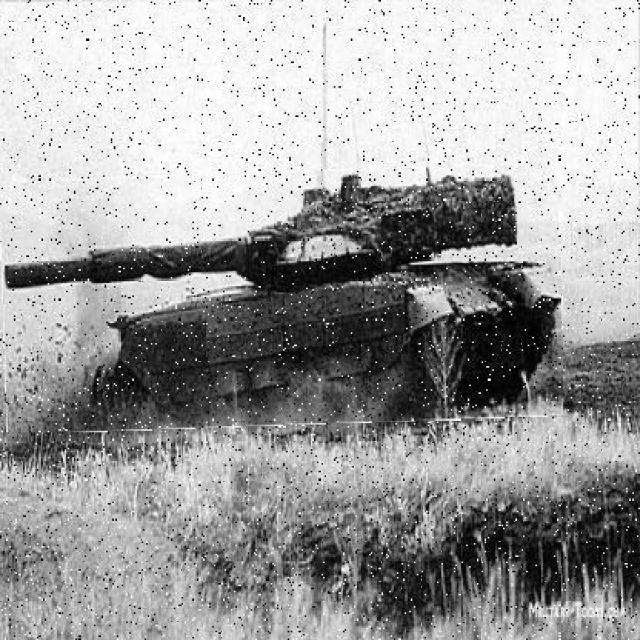Tank: (1, 169, 564, 430)
